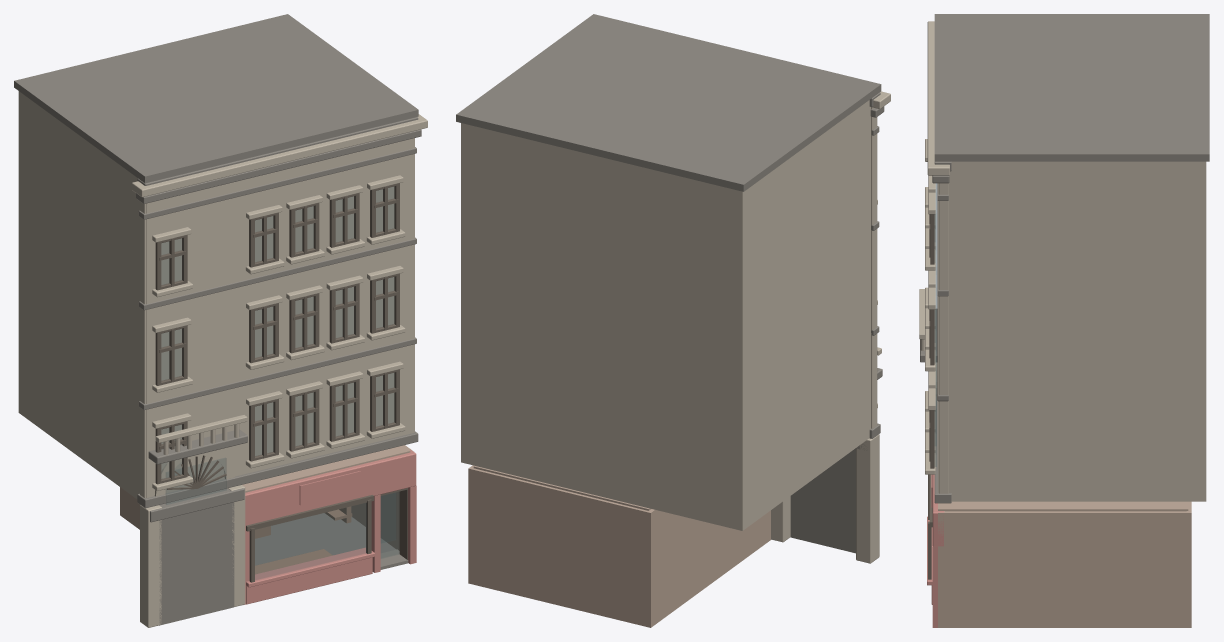
File: nice-things-blockout.glb
3 views of the same model, side by side, from view 1: azimuth 30°, elevation 25°; view 2: azimuth 150°, elevation 25°; view 3: azimuth 270°, elevation 25° (orthographic). The views are drawn at different scales.
Visible parts, largest first — view 1: NT_UpperBuildingMass, NT_RoofSlab, NT_CentralEntry_Recess, NT_Glass_MainDisplay, NT_PinkFascia, NT_InteriorFloor, NT_UpperCorniceCrown, NT_StringCourse_00, NT_CentralEntry_LeftPier, NT_UpperCorniceLower, NT_WindowBase, NT_StringCourse_02 (+30 smaller); view 2: NT_UpperBuildingMass, NT_RoofSlab, NT_InteriorWall_Back, NT_InteriorWall_Left, NT_CentralEntry_Recess, NT_CentralEntry_LeftPier, NT_FacadePilaster_00, NT_CentralEntry_RightPier, NT_InteriorCeiling; view 3: NT_UpperBuildingMass, NT_RoofSlab, NT_InteriorWall_Right, NT_FacadePilaster_05, NT_InteriorCeiling, NT_UpperCorniceCrown, NT_InteriorWall_Back, NT_PinkFascia, NT_PinkJamb_Right, NT_StringCourse_00.
Part boxes in pixels (<box>): NT_UpperBuildingMass: <box>18,91,414,499</box>; NT_RoofSlab: <box>14,14,418,183</box>; NT_CentralEntry_Recess: <box>159,502,234,625</box>; NT_Glass_MainDisplay: <box>255,503,366,579</box>; NT_PinkFascia: <box>245,449,416,527</box>; NT_InteriorFloor: <box>255,513,408,569</box>; NT_UpperCorniceCrown: <box>132,114,427,197</box>; NT_StringCourse_00: <box>137,431,418,508</box>; NT_CentralEntry_LeftPier: <box>140,505,161,627</box>; NT_UpperCorniceLower: <box>136,129,421,203</box>; NT_WindowBase: <box>246,557,372,604</box>; NT_StringCourse_02: <box>138,237,416,310</box>; NT_UpperBuildingMass: <box>461,100,870,530</box>; NT_RoofSlab: <box>456,14,881,191</box>; NT_InteriorWall_Back: <box>468,467,653,627</box>; NT_InteriorWall_Left: <box>649,509,770,625</box>; NT_CentralEntry_Recess: <box>790,448,855,553</box>; NT_CentralEntry_LeftPier: <box>856,434,879,563</box>; NT_FacadePilaster_00: <box>871,107,877,428</box>; NT_CentralEntry_RightPier: <box>771,496,790,542</box>; NT_InteriorCeiling: <box>473,466,650,510</box>; NT_UpperBuildingMass: <box>938,161,1206,501</box>; NT_RoofSlab: <box>934,14,1209,161</box>; NT_InteriorWall_Right: <box>938,511,1188,627</box>; NT_FacadePilaster_05: <box>939,183,948,493</box>; NT_InteriorCeiling: <box>938,501,1188,511</box>; NT_UpperCorniceCrown: <box>927,21,949,175</box>; NT_InteriorWall_Back: <box>1186,501,1191,627</box>; NT_PinkFascia: <box>932,474,944,546</box>; NT_PinkJamb_Right: <box>932,546,937,627</box>; NT_StringCourse_00: <box>934,400,951,503</box>.
Bounding box in the file's own units: 9.72 × 14.69 × 8.13.
